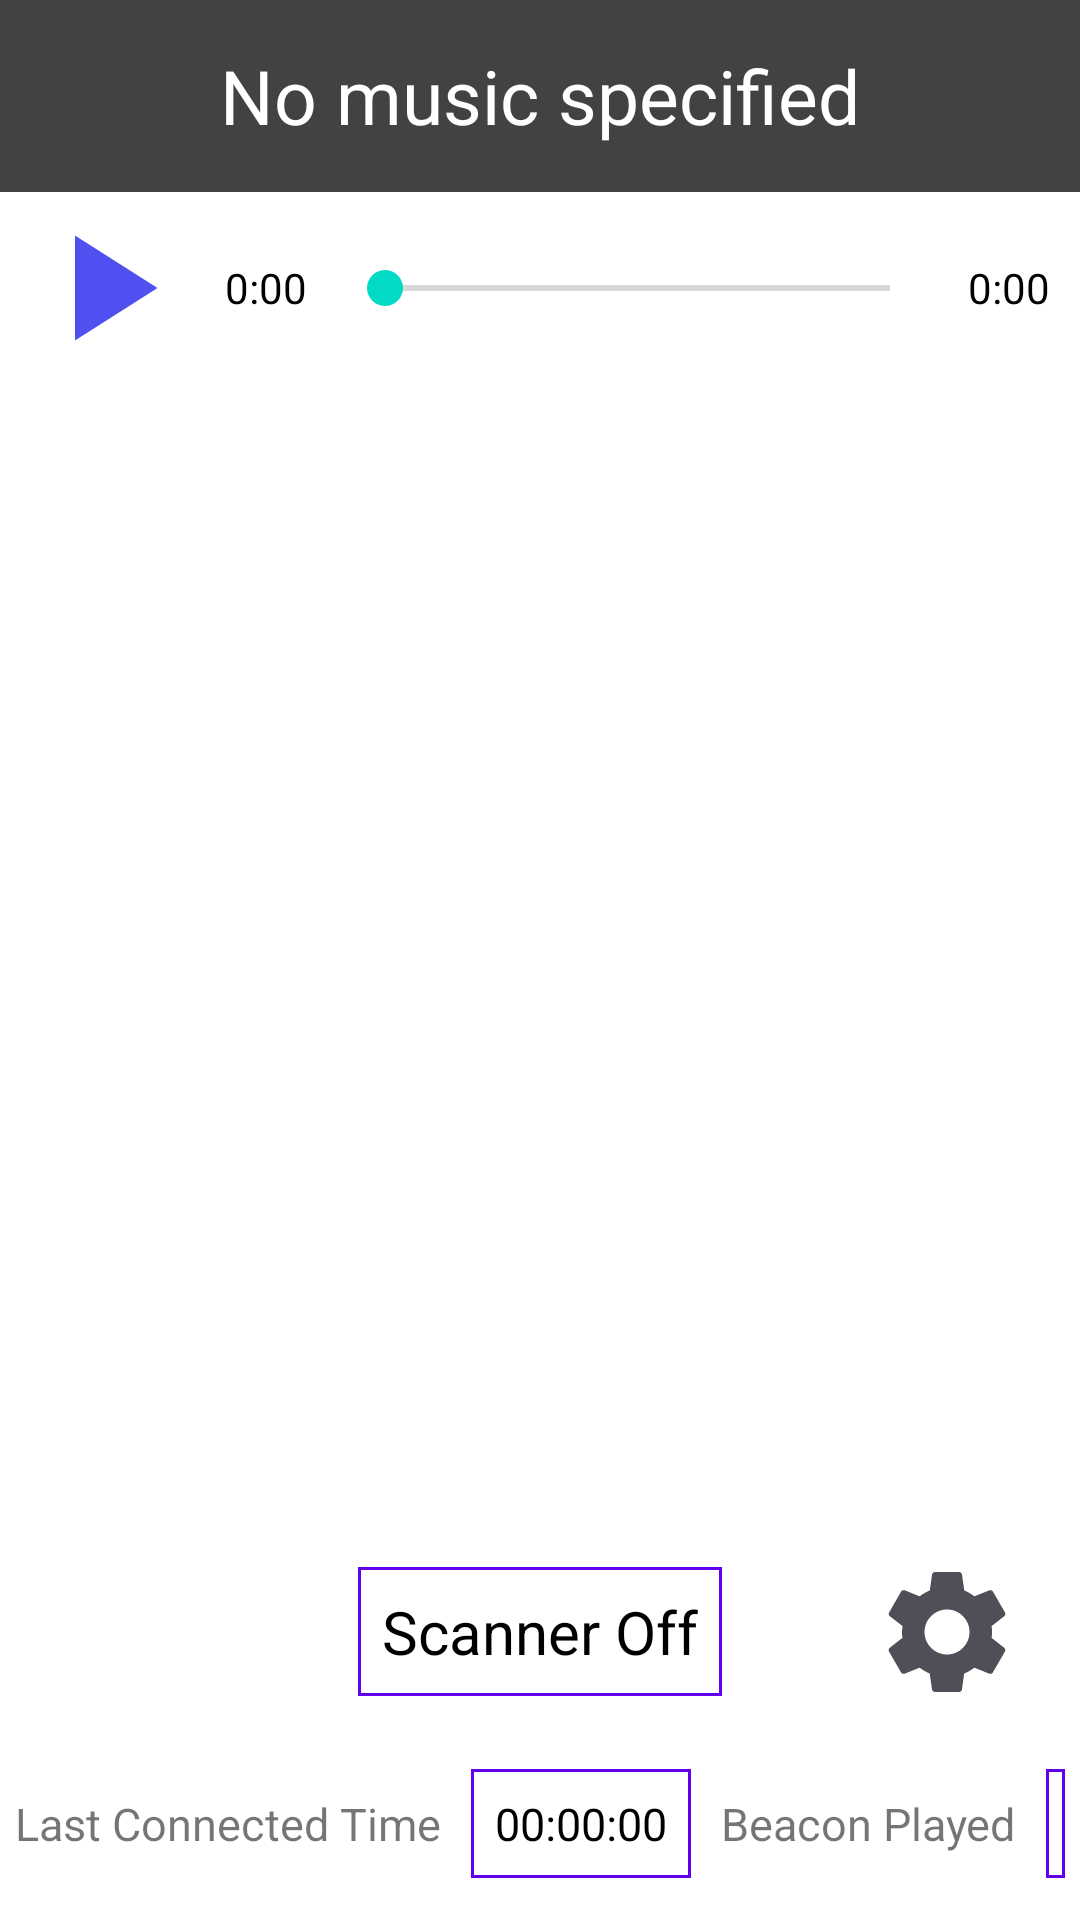

Named icons in this screenshot (1080 × 1920) and their bounding boxes, (x1, y1, x2, y2):
play: (75, 235, 157, 341)
setting: (888, 1572, 1006, 1692)
